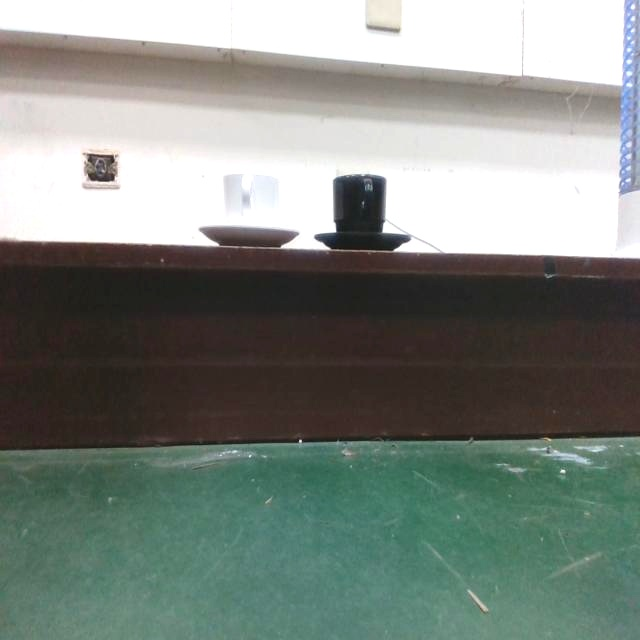black: (314, 171, 412, 253)
white: (196, 164, 303, 253)
